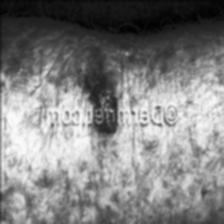Potentially Malignant Skin Tumors: (82, 71, 118, 125)
